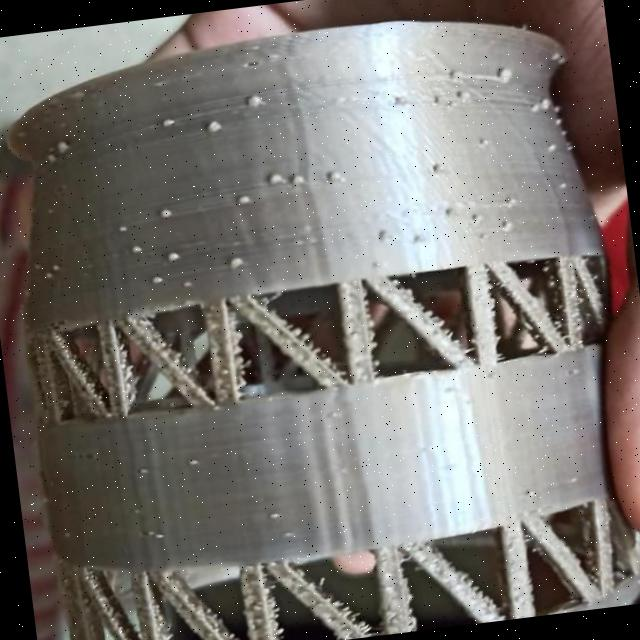blobs: (491, 62, 518, 88), (241, 88, 270, 111), (526, 94, 557, 115), (200, 113, 227, 136), (52, 134, 77, 158), (225, 248, 251, 271), (369, 225, 394, 248), (144, 268, 172, 288), (262, 165, 286, 188), (154, 111, 178, 132), (444, 66, 465, 90), (265, 507, 290, 526), (184, 452, 205, 473), (156, 203, 177, 224), (114, 219, 136, 239), (322, 164, 342, 186), (285, 170, 307, 190), (234, 188, 255, 208), (163, 244, 185, 263), (386, 89, 408, 108), (493, 215, 513, 234), (441, 202, 462, 220), (541, 137, 561, 154), (464, 208, 484, 222), (452, 84, 469, 100), (132, 240, 146, 256)
